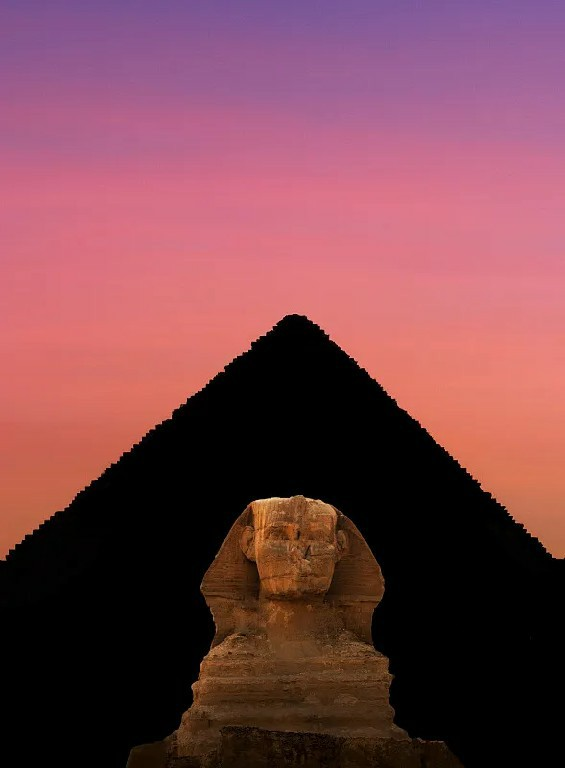Pyramid: (1, 315, 559, 566)
